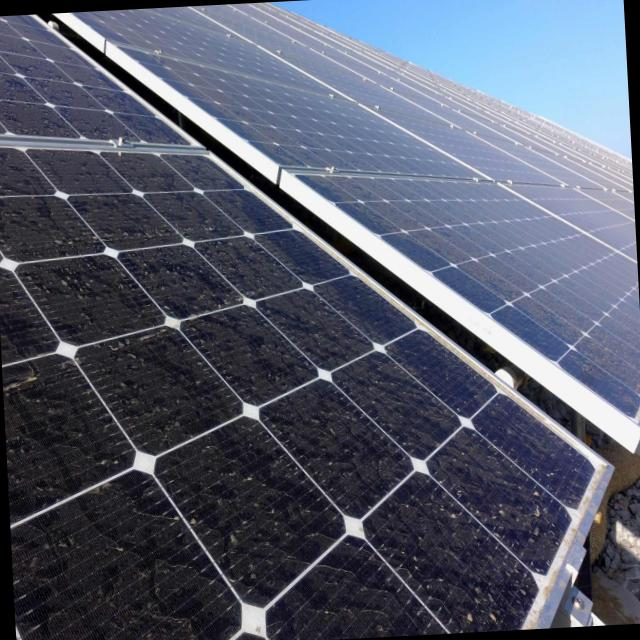faulty: (0, 15, 594, 640), (74, 12, 637, 414)
